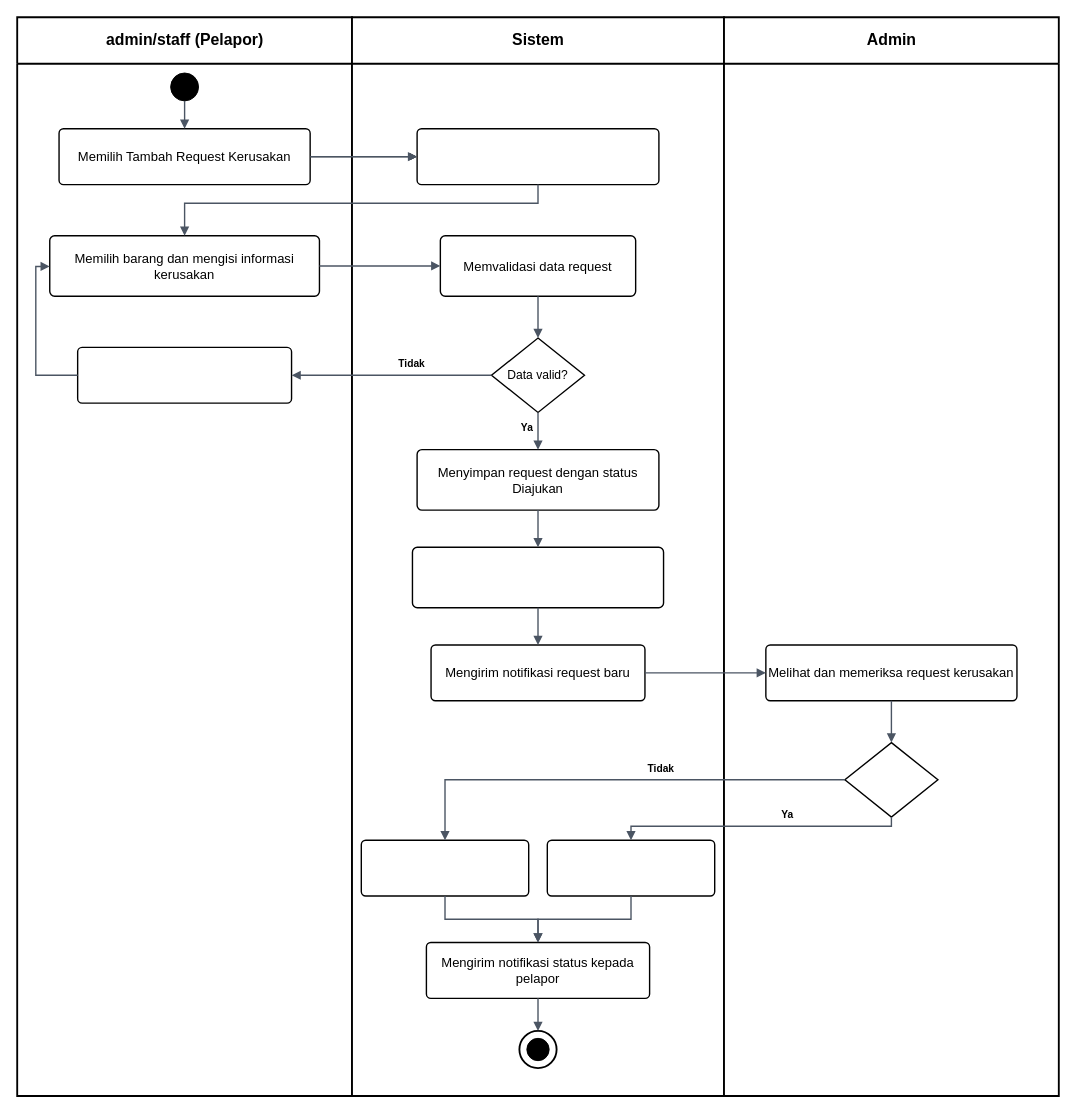
Image size: 1075x1112. Some labels were removed from this diagram. Here are the shapes that lost their labels. From the top down, the centre of each, then its label:
the point at 537,156: Menampilkan formulir request kerusakan
the point at 184,374: Menampilkan pesan kesalahan
the point at 537,577: Memperbarui kondisi barang menjadi rusak
the point at 891,779: Request diproses?
the point at 444,867: Mengubah status menjadi Ditolak
the point at 630,867: Mengubah status menjadi Diproses
